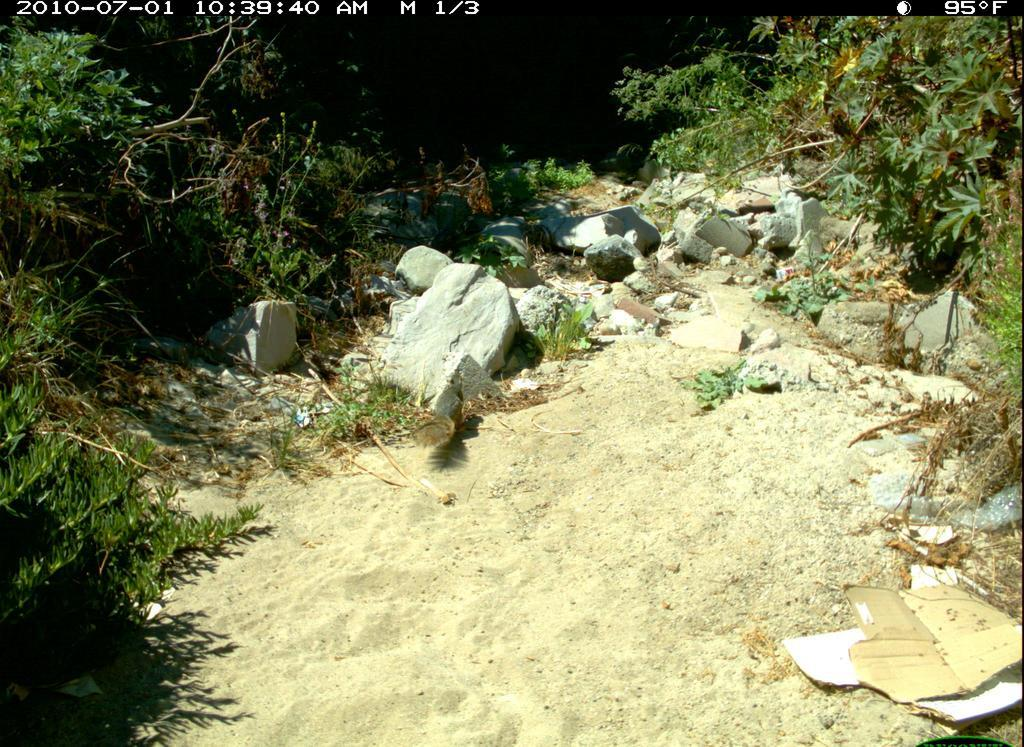squirrel: (409, 376, 472, 459)
